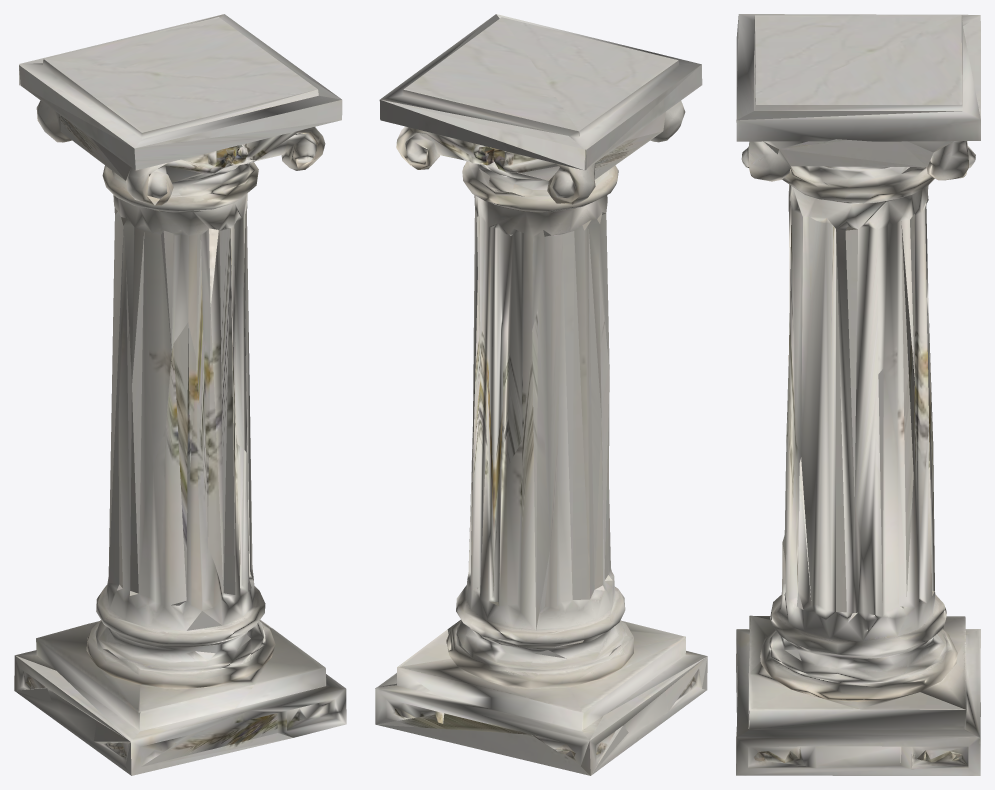
The model's file is pedestal.glb.
3 renders of one model, left to right at view 1: azimuth 30°, elevation 25°; view 2: azimuth 150°, elevation 25°; view 3: azimuth 270°, elevation 25°, orthographic. The views are drawn at different scales.
Parts seen in each view (by area): view 1: pedestal; view 2: pedestal; view 3: pedestal.
Boxes of the visible parts, x1,y1,x2,y2 form: pedestal: (14, 14, 346, 775); pedestal: (375, 14, 707, 775); pedestal: (736, 14, 980, 775).
Size of the model in its own units: 0.499 by 1.4 by 0.4687.
Materials: 1 (1 with a texture image).
